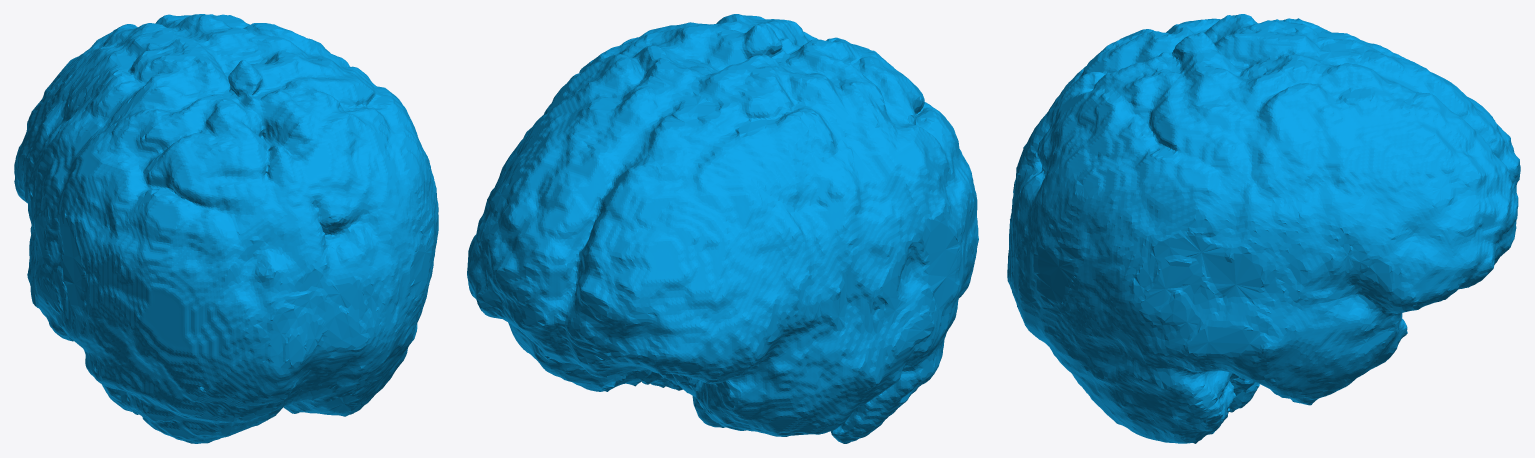
File: BrainModel.glb
3 views of the same model, side by side, from view 1: azimuth 30°, elevation 25°; view 2: azimuth 150°, elevation 25°; view 3: azimuth 270°, elevation 25° (orthographic). The views are drawn at different scales.
Size of the model in its own units: 0.1459 by 0.1388 by 0.1758.
